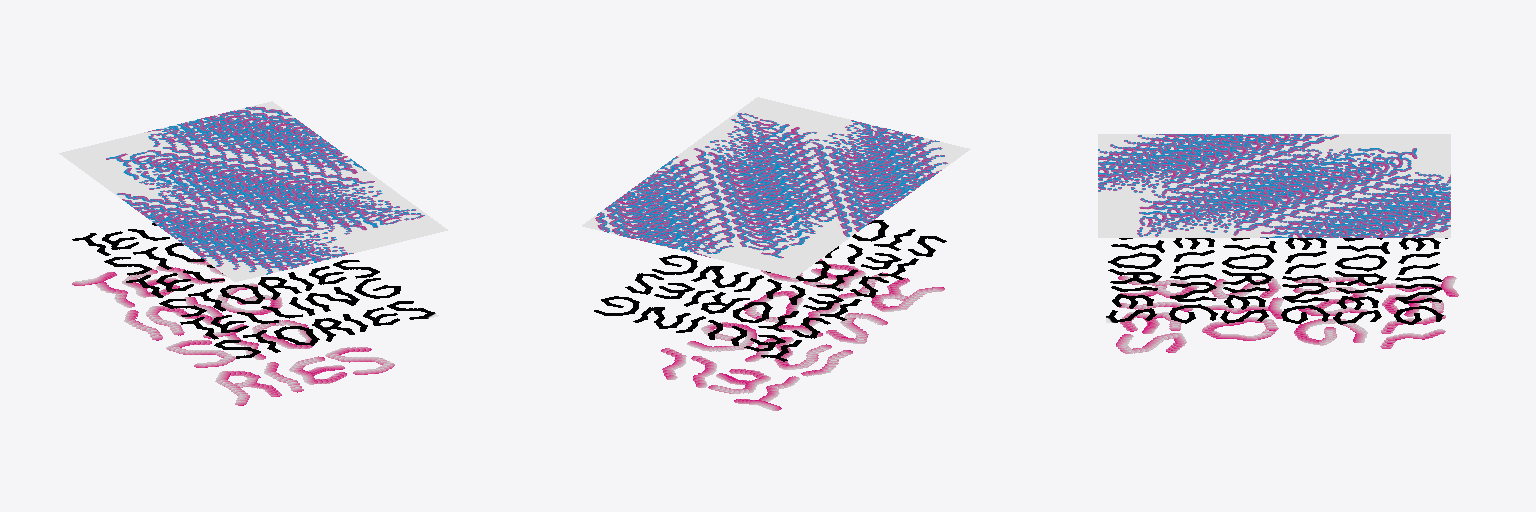
3 renders of one model, left to right at view 1: azimuth 30°, elevation 25°; view 2: azimuth 150°, elevation 25°; view 3: azimuth 270°, elevation 25°, orthographic.
Visible parts, largest first — view 1: Grid.001_Grid.003, Grid.003_Grid.005, Grid.000_Grid.002; view 2: Grid.001_Grid.003, Grid.003_Grid.005, Grid.000_Grid.002; view 3: Grid.001_Grid.003, Grid.000_Grid.002, Grid.003_Grid.005.
Boxes of the visible parts, box(x1,y1,x2,y2) form: Grid.001_Grid.003: box(59, 101, 447, 281); Grid.003_Grid.005: box(72, 258, 394, 405); Grid.000_Grid.002: box(72, 223, 438, 358); Grid.001_Grid.003: box(582, 97, 970, 277); Grid.003_Grid.005: box(661, 259, 944, 410); Grid.000_Grid.002: box(594, 220, 946, 361); Grid.001_Grid.003: box(1098, 134, 1450, 237); Grid.000_Grid.002: box(1106, 238, 1447, 324); Grid.003_Grid.005: box(1116, 275, 1458, 353).
Bounding box in the file's own units: 2.98 × 1.71 × 4.19.
3 materials, 3 textured.